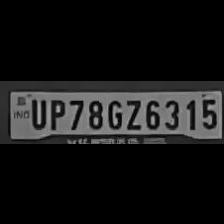1: (182, 96, 198, 130)
3: (160, 96, 180, 128)
5: (198, 94, 218, 130)
6: (142, 96, 160, 128)
7: (66, 96, 84, 130)
8: (84, 96, 104, 128)
G: (104, 96, 122, 128)
P: (46, 96, 66, 130)
U: (28, 96, 46, 128)
Z: (122, 96, 142, 128)
